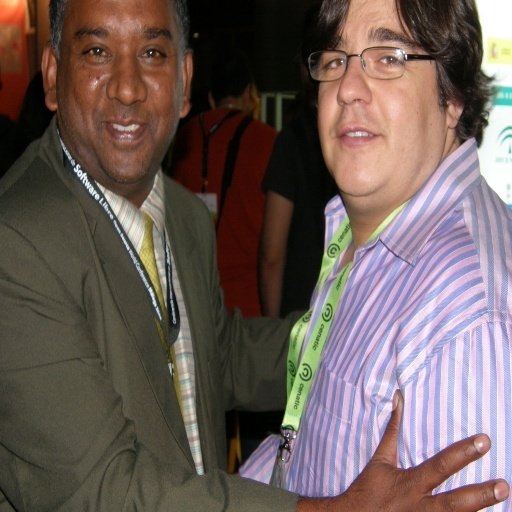hand: (340, 403, 504, 494)
